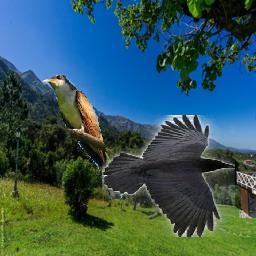Crow: (103, 115, 236, 237)
Cuckoo: (43, 73, 124, 199)
